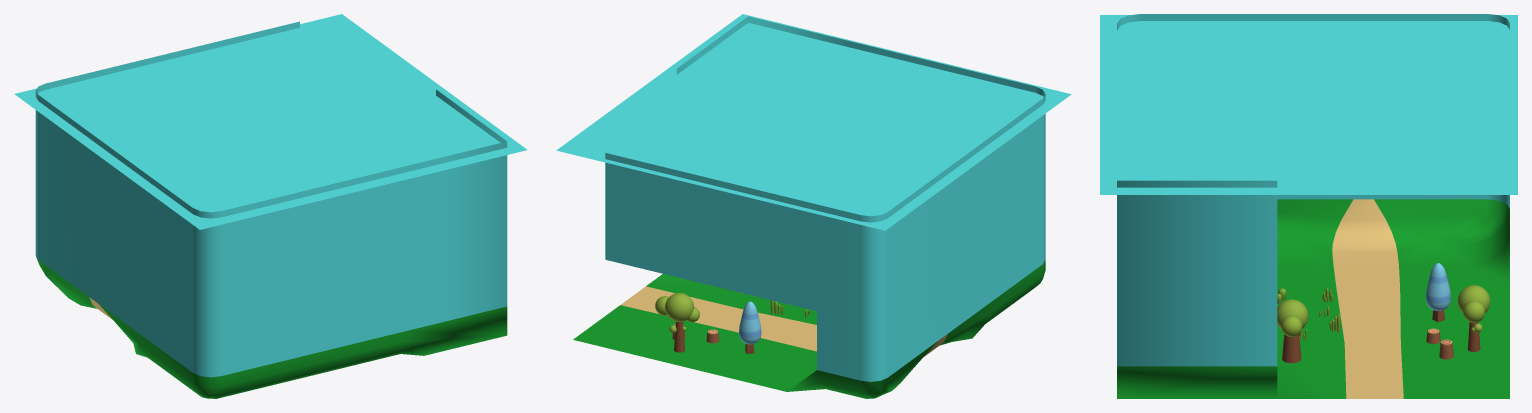
File: cikis.fbx
3 renders of one model, left to right at view 1: azimuth 30°, elevation 25°; view 2: azimuth 150°, elevation 25°; view 3: azimuth 270°, elevation 25°, orthographic. The views are drawn at different scales.
Parts seen in each view (by area): view 1: yatakodasi_zemin.003, yatakodasi_zemin.002, yatakodasi_zemin.001; view 2: yatakodasi_zemin.003, yatakodasi_zemin.002, yatakodasi_zemin.001, agac_4, agac_2; view 3: yatakodasi_zemin.002, yatakodasi_zemin.001, yatakodasi_zemin.003, agac_3, agac_4, agac_2.
Boxes of the visible parts, bbox=[...] form: yatakodasi_zemin.003: bbox=[35, 21, 507, 377]; yatakodasi_zemin.002: bbox=[14, 14, 527, 229]; yatakodasi_zemin.001: bbox=[36, 256, 507, 398]; yatakodasi_zemin.003: bbox=[605, 16, 1045, 381]; yatakodasi_zemin.002: bbox=[556, 14, 1071, 230]; yatakodasi_zemin.001: bbox=[573, 260, 1045, 398]; agac_4: bbox=[655, 293, 699, 352]; agac_2: bbox=[739, 301, 761, 353]; yatakodasi_zemin.002: bbox=[1100, 15, 1517, 194]; yatakodasi_zemin.001: bbox=[1117, 199, 1509, 398]; yatakodasi_zemin.003: bbox=[1117, 14, 1509, 366]; agac_3: bbox=[1277, 299, 1308, 363]; agac_4: bbox=[1457, 285, 1490, 351]; agac_2: bbox=[1426, 263, 1450, 322].
Size of what is drawn, in the model's own units: 15.24 by 8.63 by 14.97.
